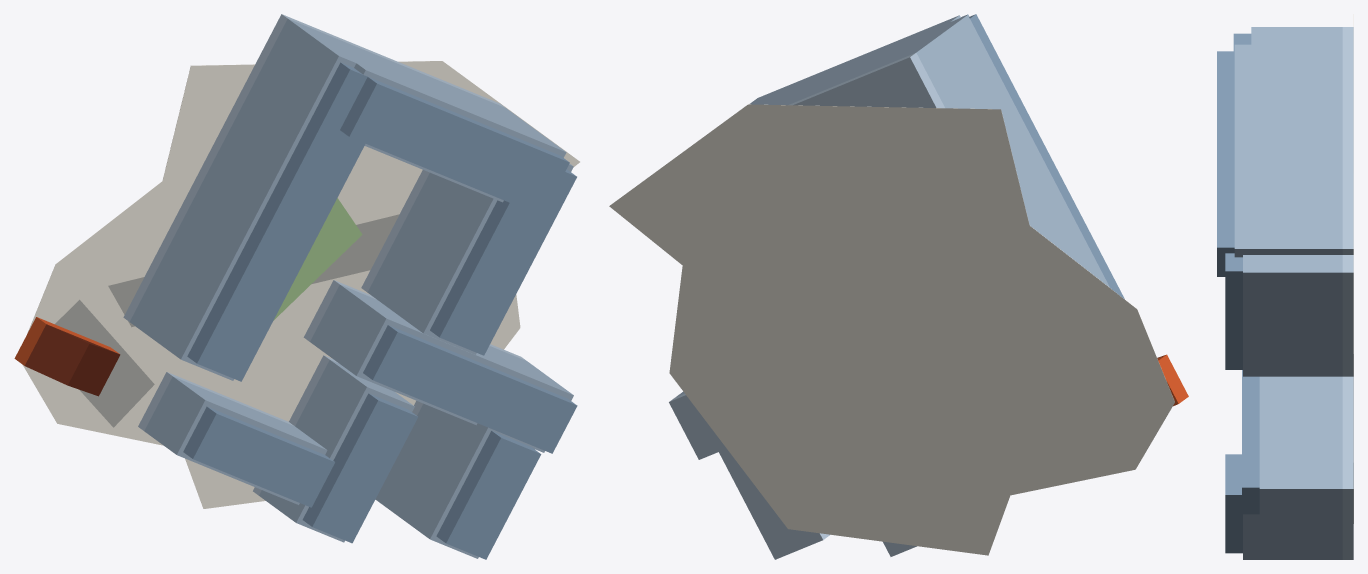
The model's file is residential_okn_massing_v1.obj.
The picture shows the model from 3 angles, left to right: view 1: azimuth 30°, elevation 25°; view 2: azimuth 150°, elevation 25°; view 3: azimuth 270°, elevation 25°; orthographic projection. The views are drawn at different scales.
Size of the model in its own units: 220 by 198 by 51.68.
